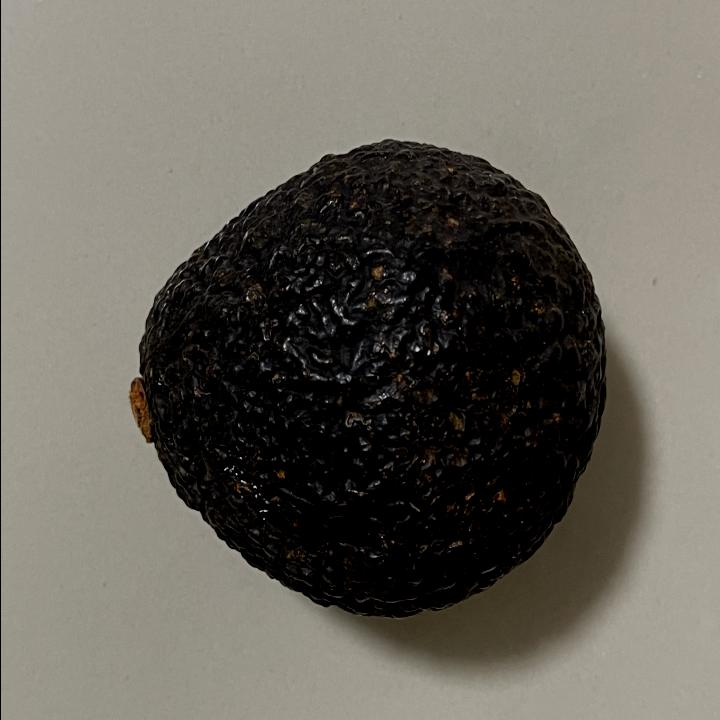Level1: (112, 117, 620, 632)
